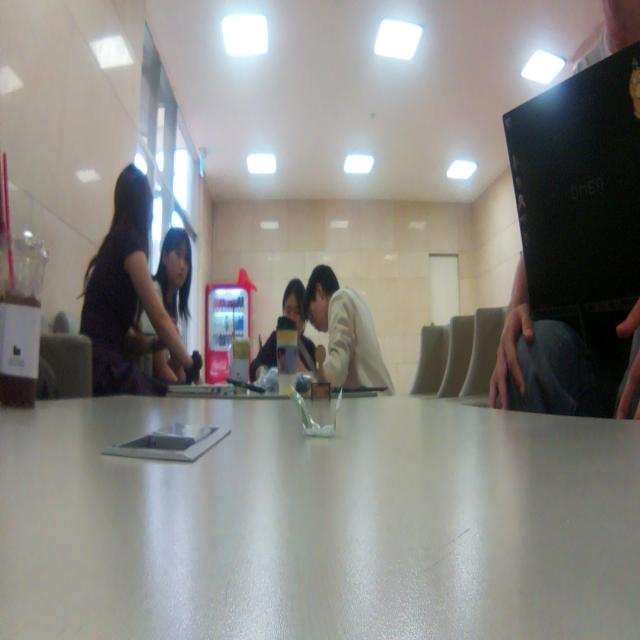target: (310, 344, 332, 402)
